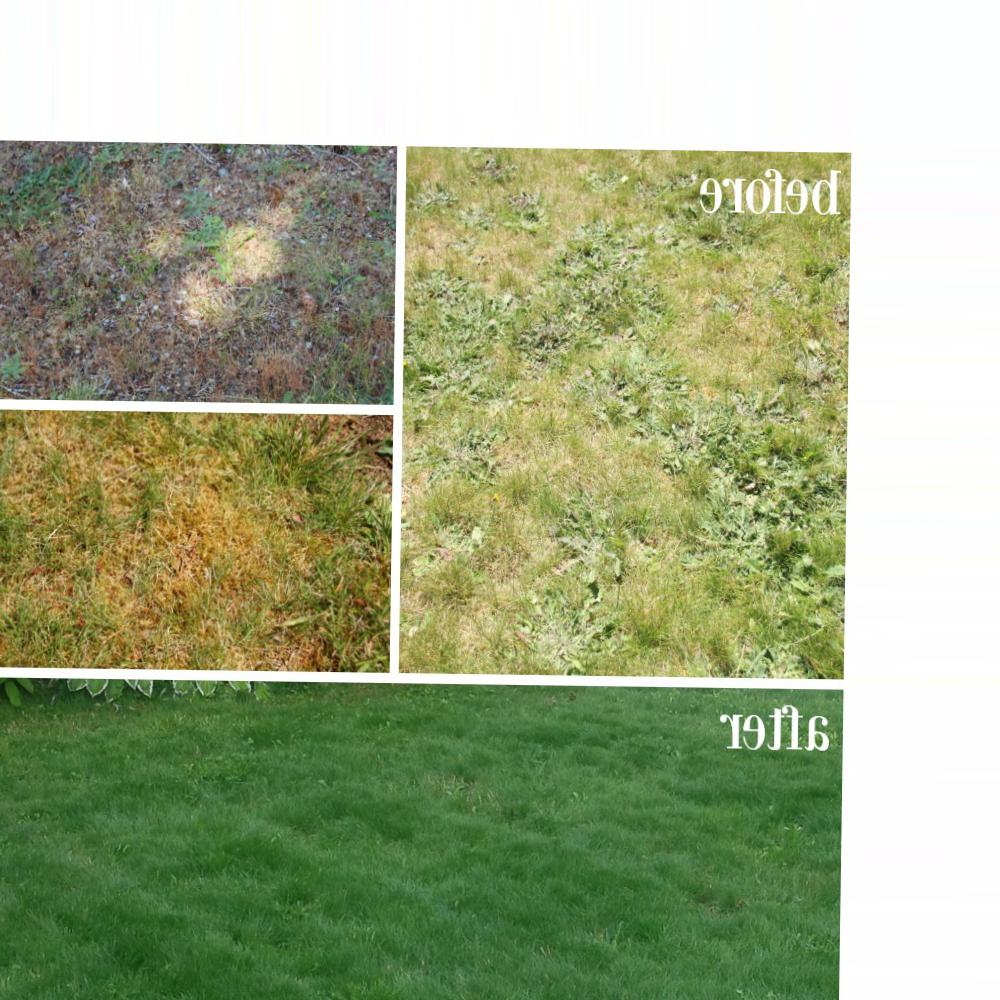patch: (485, 201, 730, 643), (754, 232, 824, 566), (196, 483, 351, 613), (413, 483, 494, 611), (75, 513, 179, 611), (139, 620, 271, 660), (230, 232, 288, 271), (15, 577, 64, 609), (100, 450, 145, 483), (188, 281, 232, 309), (428, 216, 454, 254)
